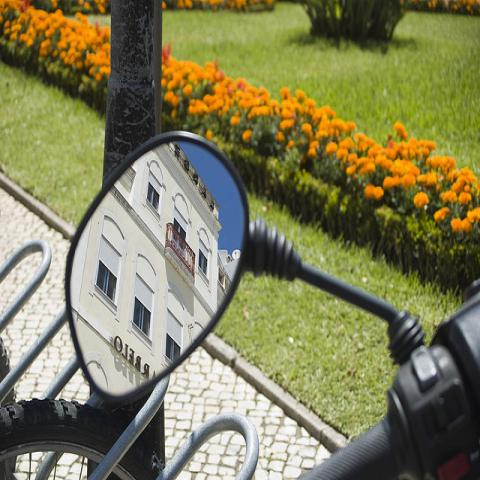motorcycle: (67, 132, 479, 473)
